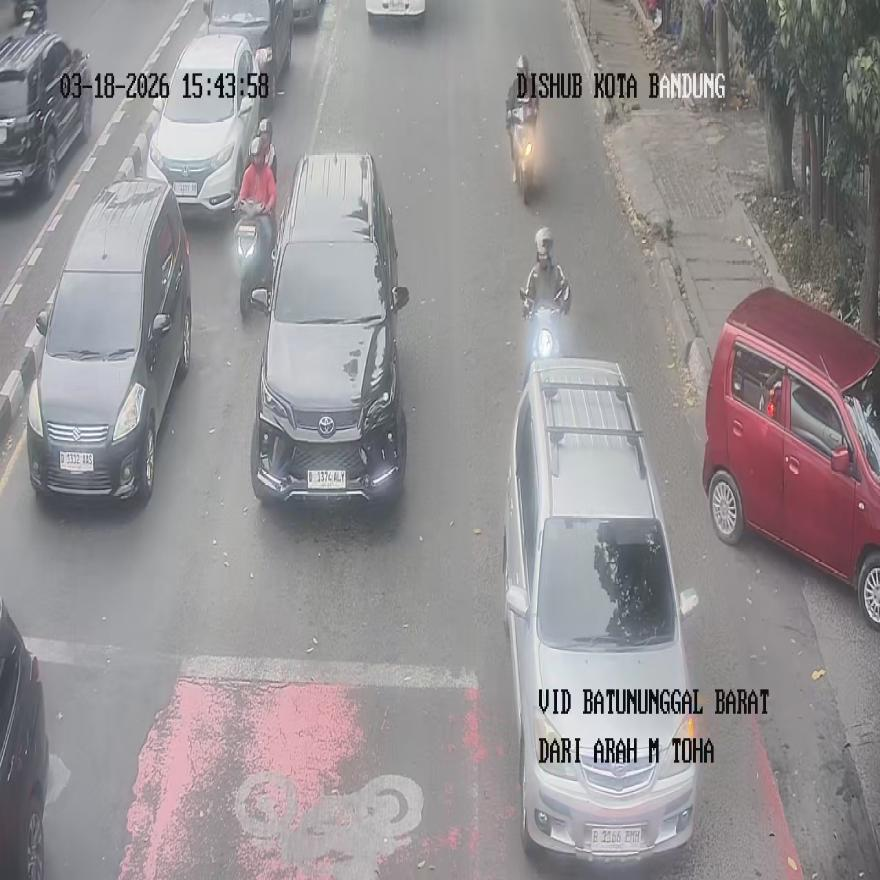Motor: (501, 360, 699, 860), (702, 289, 880, 630), (248, 153, 408, 506), (19, 177, 191, 504), (146, 30, 260, 217), (0, 28, 92, 199), (0, 600, 48, 879), (202, 0, 291, 106)
Truk: (520, 227, 569, 363), (233, 198, 275, 319), (520, 285, 566, 385), (509, 110, 536, 202), (248, 119, 277, 184), (13, 0, 47, 33)
